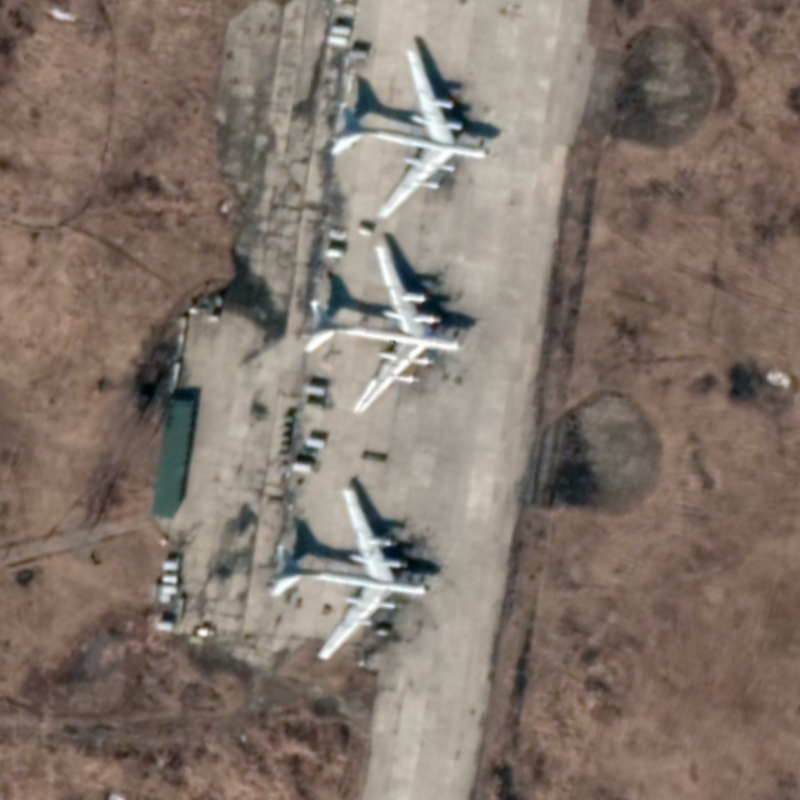A17: (267, 486, 431, 663), (327, 47, 490, 222), (300, 243, 463, 416)
